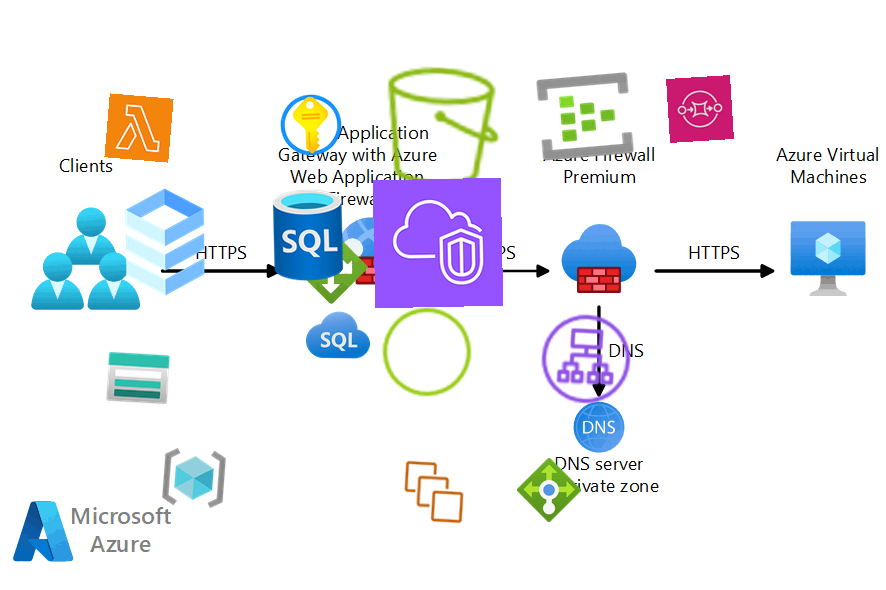aws_amazon_simple_queue_service: (666, 75, 734, 143)
aws_amazon_virtual_private_cloud: (372, 177, 504, 309)
aws_ec2_instances: (400, 458, 468, 526)
aws_elastic_load_balancing_application_load_balancer: (535, 308, 637, 410)
aws_lambda: (104, 93, 174, 163)
aws_simple_storage_service_object: (377, 302, 477, 402)
aws_simple_storage_service_s3_standard: (374, 59, 510, 195)
azure_event_hubs: (533, 64, 637, 168)
azure_key_vaults: (277, 91, 345, 159)
azure_load_balancers: (516, 457, 582, 523)
azure_resource_groups: (159, 443, 229, 513)
azure_sql: (305, 303, 371, 369)
azure_sql_database: (258, 185, 358, 285)
azure_storage_accounts: (104, 344, 172, 412)
gcp_cloud_sql: (100, 177, 230, 307)
